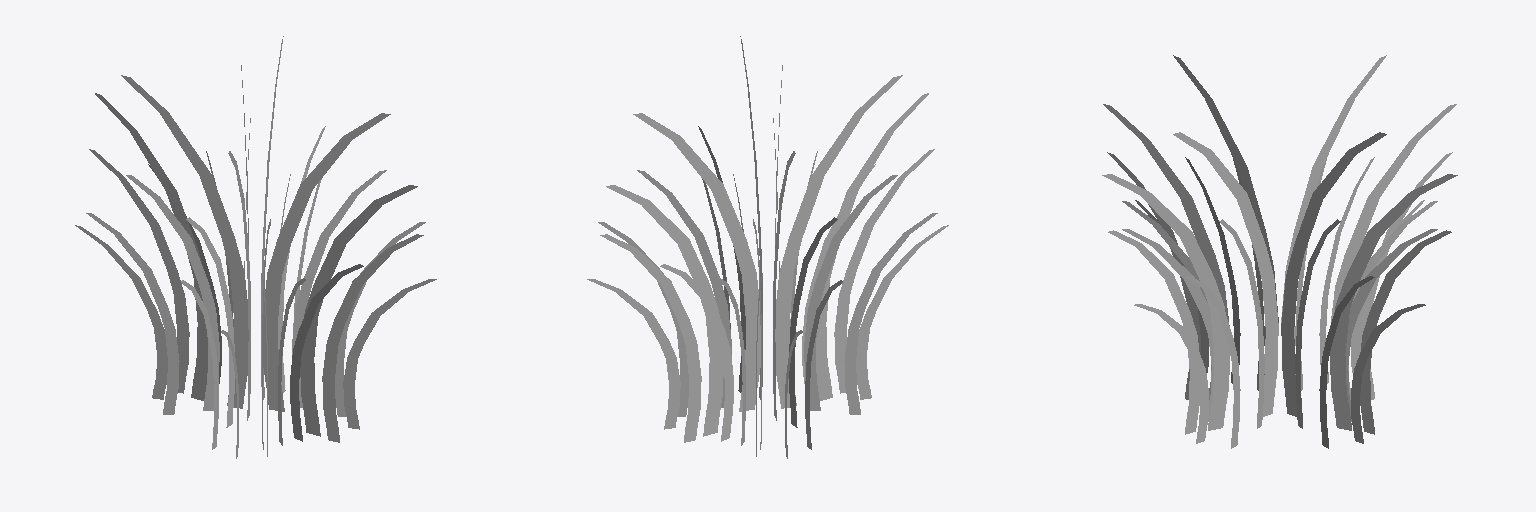
The model's file is grass.obj.
3 renders of one model, left to right at view 1: azimuth 30°, elevation 25°; view 2: azimuth 150°, elevation 25°; view 3: azimuth 270°, elevation 25°, orthographic.
Visible parts, largest first — view 1: grass; view 2: grass; view 3: grass.
Part boxes in pixels (x1,y1,x2,y2): grass: (75,36,436,458); grass: (587,36,948,458); grass: (1102,55,1457,448).
Size of the model in its own units: 1.6 by 2 by 2.